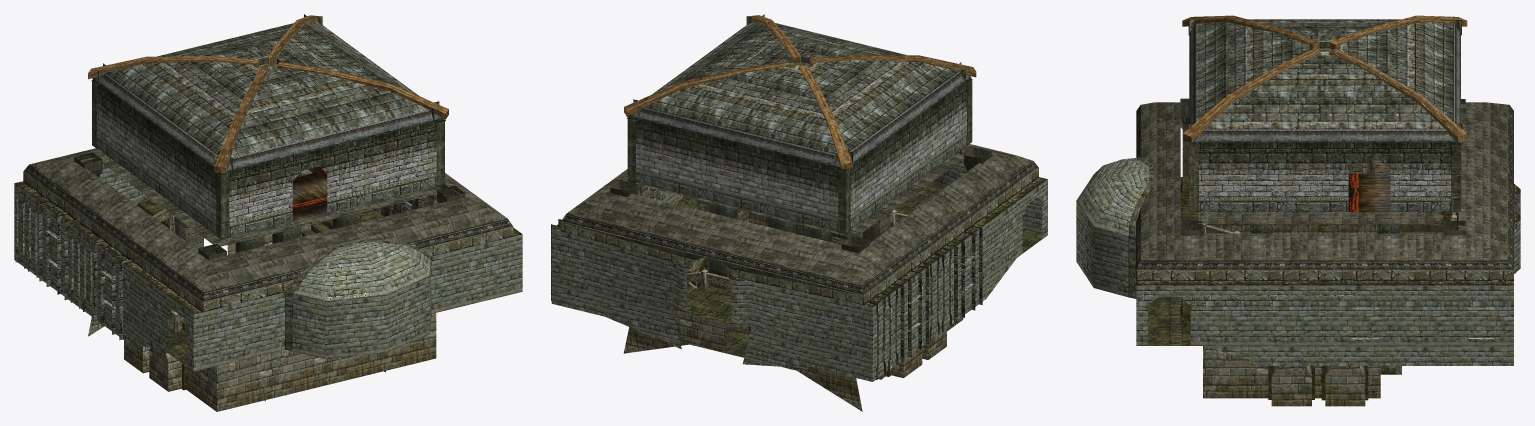
The model's file is cci03.glb.
The picture shows the model from 3 angles, left to right: view 1: azimuth 30°, elevation 25°; view 2: azimuth 150°, elevation 25°; view 3: azimuth 270°, elevation 25°; orthographic projection. The views are drawn at different scales.
Visible parts, largest first — view 1: cci03; view 2: cci03; view 3: cci03.
Part boxes in pixels (x1,y1,x2,y2): cci03: (14, 14, 522, 411); cci03: (551, 14, 1047, 411); cci03: (1076, 15, 1520, 406).
Bounding box in the file's own units: 18.39 × 14.99 × 20.
20 materials, 20 textured.
